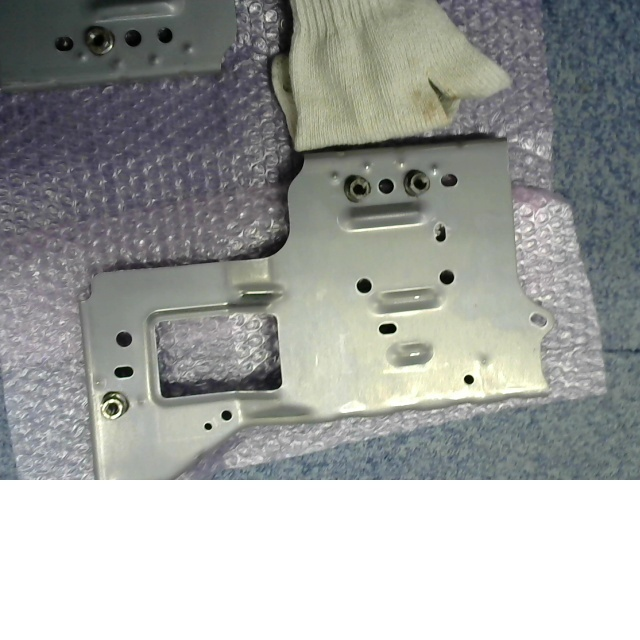dog: (84, 26, 114, 56), (100, 392, 130, 421), (343, 173, 372, 201), (402, 167, 429, 196)
